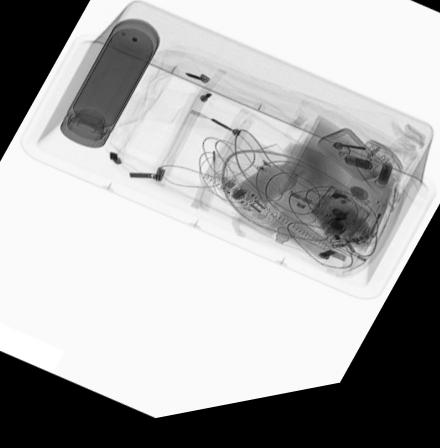Lighter: (363, 224, 386, 256)
